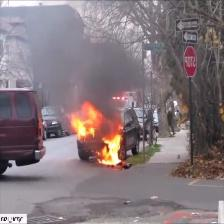fire: (71, 100, 124, 168)
